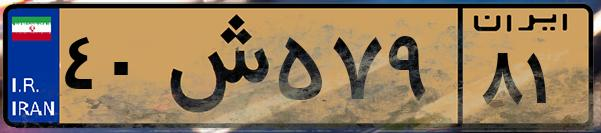0: (110, 28, 158, 98)
1: (525, 38, 570, 115)
4: (57, 26, 110, 100)
5: (270, 28, 330, 110)
7: (330, 28, 385, 110)
8: (475, 38, 525, 113)
9: (385, 28, 445, 110)
ش: (158, 12, 270, 120)
